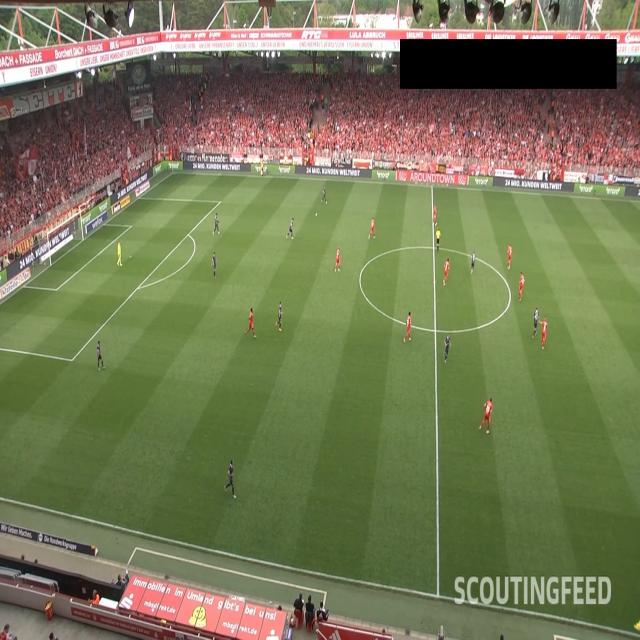ball: (315, 212, 318, 218)
